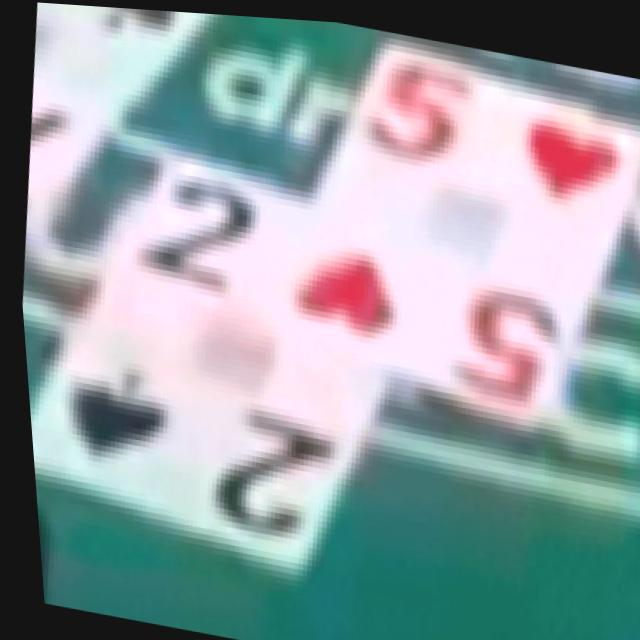Card-2: (25, 149, 380, 569)
Card-5: (263, 36, 640, 422)
